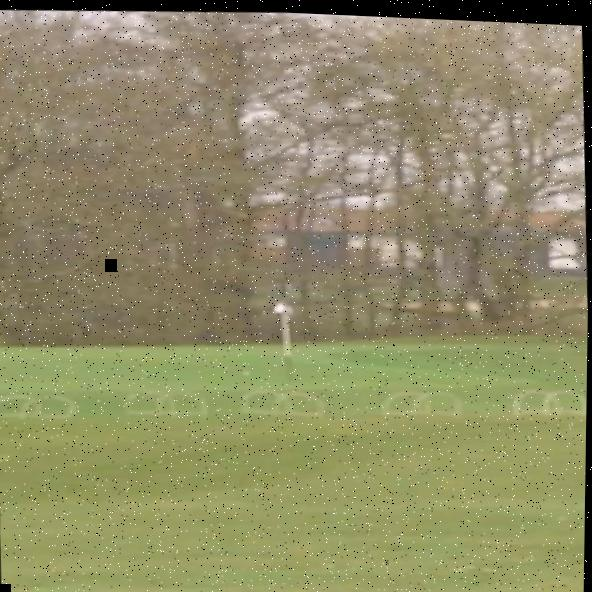GolfBall: (244, 368, 253, 373)
